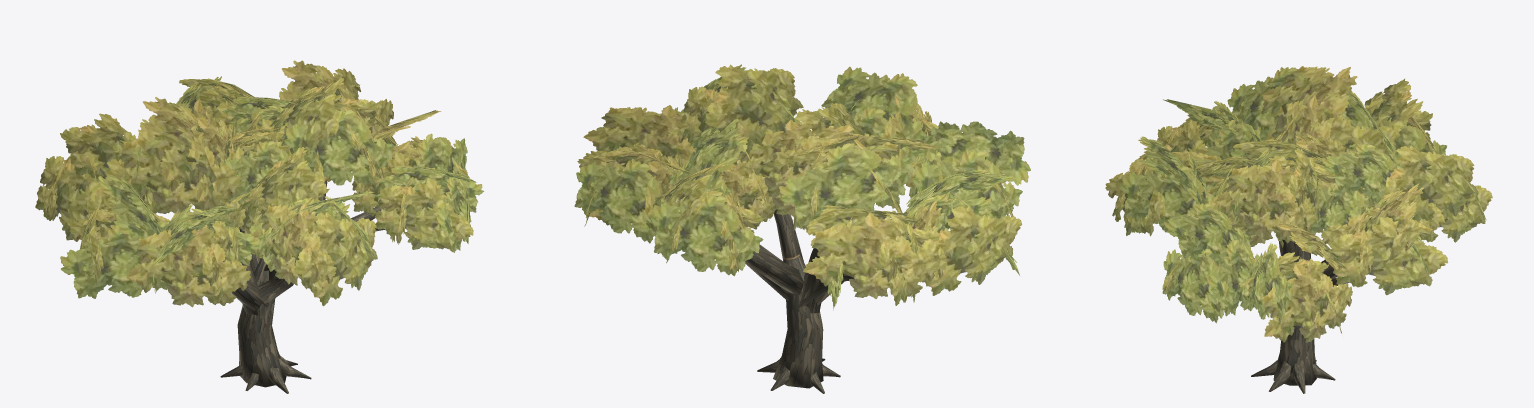
The model's file is nbt_broad_oak.glb.
The picture shows the model from 3 angles, left to right: view 1: azimuth 30°, elevation 25°; view 2: azimuth 150°, elevation 25°; view 3: azimuth 270°, elevation 25°; orthographic projection. The views are drawn at different scales.
Parts seen in each view (by area): view 1: Broad_Oak_Foliage, Broad_Oak_Wood; view 2: Broad_Oak_Foliage, Broad_Oak_Wood; view 3: Broad_Oak_Foliage, Broad_Oak_Wood.
Part boxes in pixels (x1,y1,x2,y2): Broad_Oak_Foliage: (35,60,483,307); Broad_Oak_Wood: (220,180,385,393); Broad_Oak_Foliage: (574,64,1030,310); Broad_Oak_Wood: (745,209,854,393); Broad_Oak_Foliage: (1105,66,1492,342); Broad_Oak_Wood: (1251,239,1349,393).
Size of the model in its own units: 11.49 by 7.4 by 10.01.
Materials: 2 (2 with a texture image).
